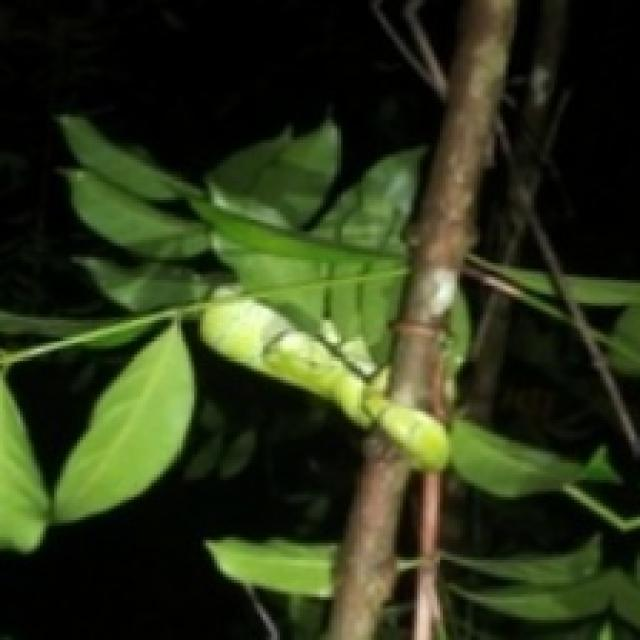north ph temple pitviper: (200, 297, 446, 469), (200, 297, 446, 466)
